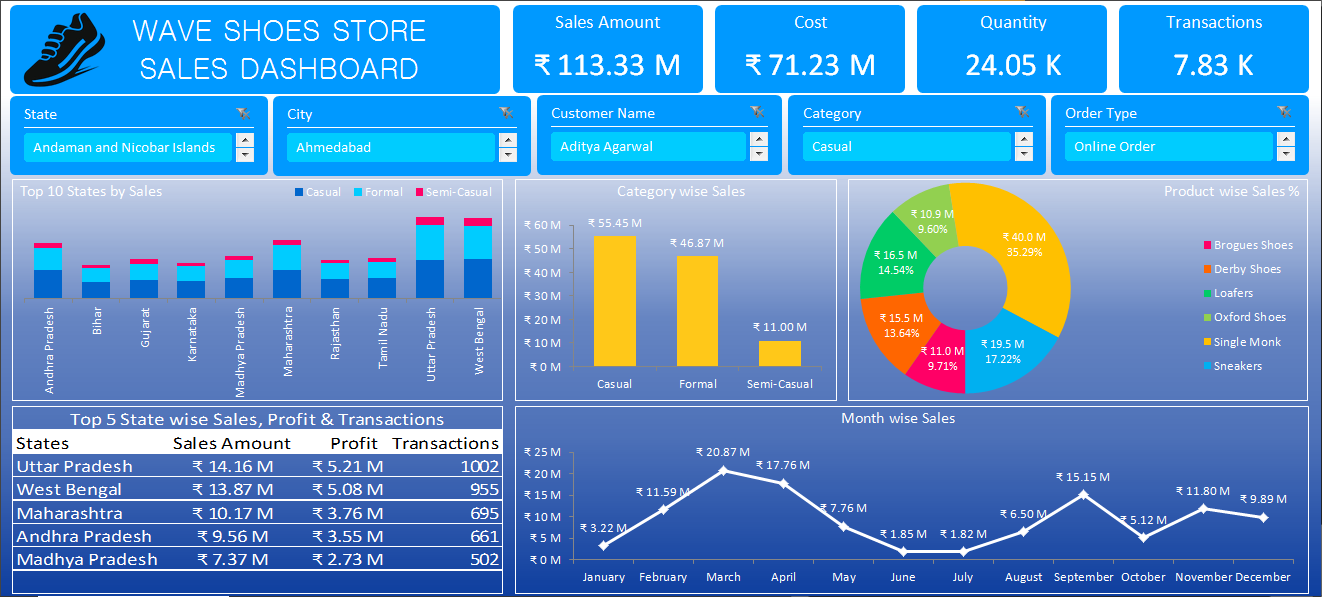

What the dashboard file says about the page in this screenshot:
{"tool":"powerbi","page":{"name":"Wave Shoes Store Sales Analysis","canvas":[3300,1800],"ordinal":0},"visuals":[{"type":"cardVisual","title":"Sales Amount","fields":{"Data":["Wave Shoes Store Sales Analysis Measures.Sales Amount"]},"box":[1280.4,31.8,489.1,206.8],"z":0},{"type":"cardVisual","title":"Cost","fields":{"Data":["Wave Shoes Store Sales Analysis Measures.Cost"]},"box":[1777.5,31.8,489.1,210.8],"z":1000},{"type":"cardVisual","title":"Quantity Sold","fields":{"Data":["Wave Shoes Store Sales Analysis Measures.Quantity Sold"]},"box":[2282.5,35.8,489.1,206.8],"z":2000},{"type":"cardVisual","title":"Transactions","fields":{"Data":["Wave Shoes Store Sales Analysis Measures.Transactions"]},"box":[2787.5,35.8,493.1,206.8],"z":3000},{"type":"clusteredColumnChart","title":"Category wise Sales","fields":{"Category":["Wave Shoes Store Sales Analysis.Category"],"Y":["_'Wave Shoes Store Sales Analysis'.Sales Amount"]},"box":[1228.7,532.9,1018,648.2],"z":4000},{"type":"donutChart","title":"Product wise Sales %","fields":{"Y":["_'Wave Shoes Store Sales Analysis'.Sales Amount"],"Category":["Wave Shoes Store Sales Analysis.Product"]},"box":[2250.7,532.9,1022,648.2],"z":5000},{"type":"lineChart","title":"Month wise Sales","fields":{"Y":["_'Wave Shoes Store Sales Analysis'.Sales Amount"],"Category":["Wave Shoes Store Sales Analysis.Order Date.Variation.Date Hierarchy.Month"]},"box":[1228.7,1189,2043.9,600.5],"z":6000},{"type":"tableEx","title":"Top States wise Sales, Profit & Transactions","fields":{"Values":["Wave Shoes Store Sales Analysis.State","_'Wave Shoes Store Sales Analysis'.Sales Amount","_'Wave Shoes Store Sales Analysis'.Profit","_'Wave Shoes Store Sales Analysis'.Transactions"]},"box":[27.8,1189,1189,600.5],"z":7000},{"type":"textbox","box":[262.5,8,954.4,302.2],"z":8000},{"type":"advancedSlicerVisual","title":"State","fields":{"Values":["Wave Shoes Store Sales Analysis.State"]},"box":[27.8,302.2,624.3,210.8],"z":9000},{"type":"advancedSlicerVisual","title":"City","fields":{"Values":["Wave Shoes Store Sales Analysis.City"]},"box":[684,302.2,624.3,210.8],"z":10000},{"type":"textSlicer","title":"Customer Name","fields":{"Values":["Wave Shoes Store Sales Analysis.Customer Name"]},"box":[1352,302.2,588.5,210.8],"z":11000},{"type":"advancedSlicerVisual","title":"Category","fields":{"Values":["Wave Shoes Store Sales Analysis.Category"]},"box":[1980.3,302.2,624.3,210.8],"z":12000},{"type":"advancedSlicerVisual","title":"Order Type","fields":{"Values":["Wave Shoes Store Sales Analysis.Order Type"]},"box":[2636.4,302.2,624.3,210.8],"z":13000},{"type":"image","box":[0,8,262.5,294.3],"z":14000},{"type":"map","title":"Top States by Sales","fields":{"Size":["_'Wave Shoes Store Sales Analysis'.Sales Amount"],"Series":["Wave Shoes Store Sales Analysis.Category"],"Category":["Wave Shoes Store Sales Analysis.State"]},"box":[27.8,532.9,1189,648.2],"z":15000}]}

Visuals, with their boxes on the page's 3300x1800 design canvas (x1, y1, x2, y2). These are canvas units, not pixel positions in the 1322x597 screenshot, which may show the page scaled, cropped or inside an application window:
"Sales Amount" cardVisual: region(1280, 32, 1770, 239)
"Cost" cardVisual: region(1778, 32, 2267, 243)
"Quantity Sold" cardVisual: region(2282, 36, 2772, 243)
"Transactions" cardVisual: region(2788, 36, 3281, 243)
"Category wise Sales" clusteredColumnChart: region(1229, 533, 2247, 1181)
"Product wise Sales %" donutChart: region(2251, 533, 3273, 1181)
"Month wise Sales" lineChart: region(1229, 1189, 3273, 1790)
"Top States wise Sales, Profit & Transactions" tableEx: region(28, 1189, 1217, 1790)
textbox: region(262, 8, 1217, 310)
"State" advancedSlicerVisual: region(28, 302, 652, 513)
"City" advancedSlicerVisual: region(684, 302, 1308, 513)
"Customer Name" textSlicer: region(1352, 302, 1940, 513)
"Category" advancedSlicerVisual: region(1980, 302, 2605, 513)
"Order Type" advancedSlicerVisual: region(2636, 302, 3261, 513)
image: region(0, 8, 262, 302)
"Top States by Sales" map: region(28, 533, 1217, 1181)
